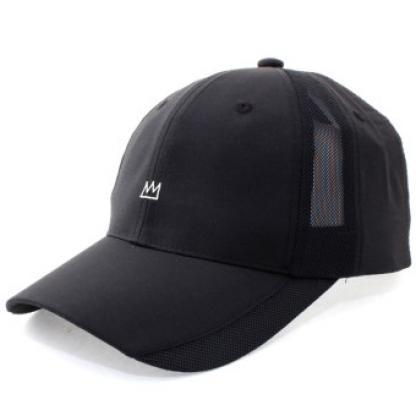cap: (4, 52, 412, 374)
